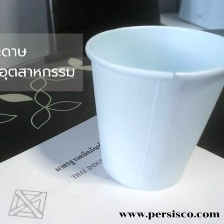paper_cup: (80, 20, 224, 194)
